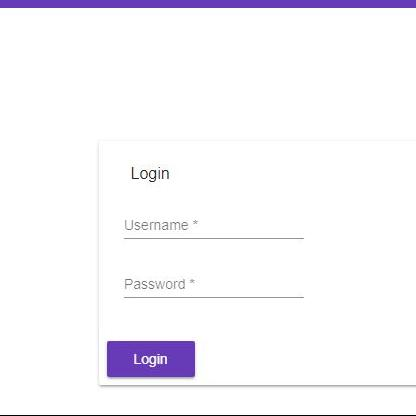button: (104, 336, 200, 381)
field_line: (118, 210, 306, 242), (118, 268, 306, 300)
